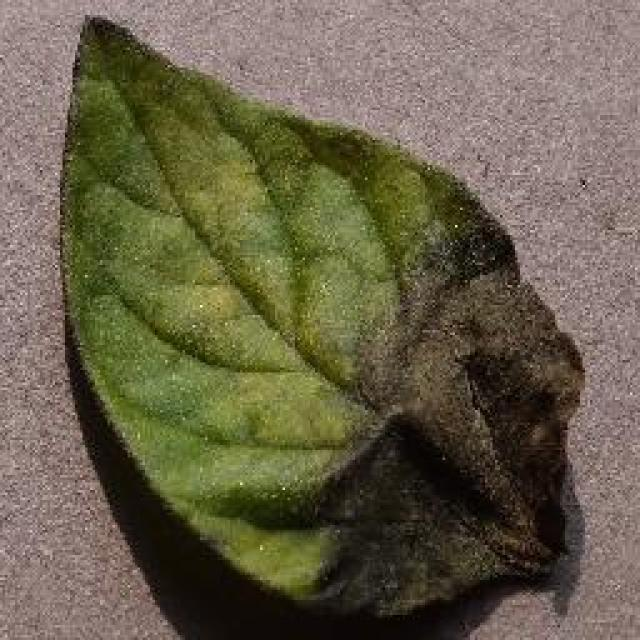Tomato Late Blight: (357, 158, 573, 628)
